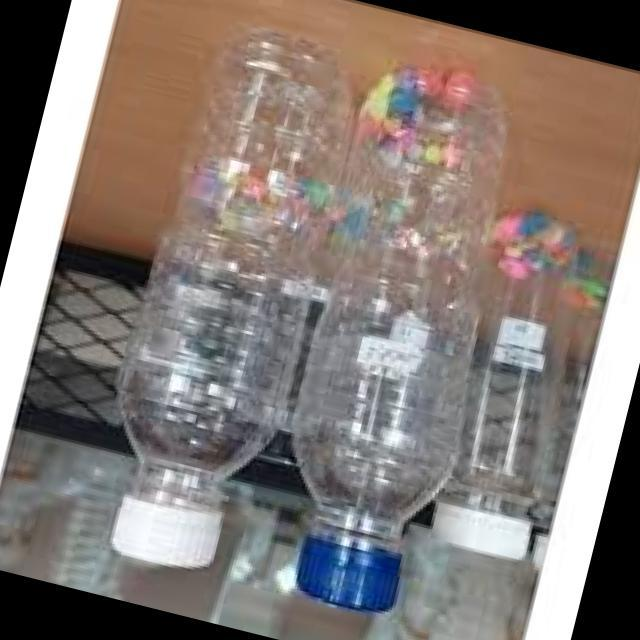good: (62, 19, 369, 602), (263, 50, 565, 629)
